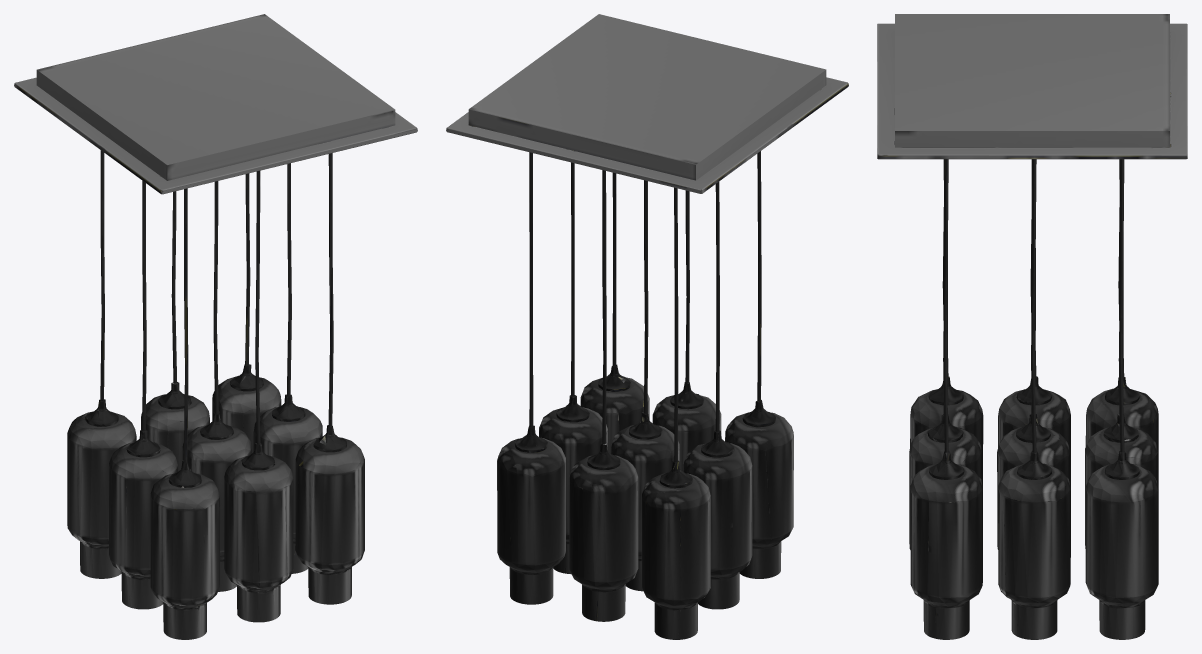
3 views of the same model, side by side, from view 1: azimuth 30°, elevation 25°; view 2: azimuth 150°, elevation 25°; view 3: azimuth 270°, elevation 25° (orthographic). The views are drawn at different scales.
Parts seen in each view (by area): view 1: Node; view 2: Node; view 3: Node.
Boxes of the visible parts, x1=… form: Node: x1=14, y1=14, x2=417, y2=639; Node: x1=446, y1=14, x2=848, y2=639; Node: x1=877, y1=14, x2=1187, y2=639.
Size of the model in its own units: 0.5878 by 1.08 by 0.5858.
1 material, 1 textured.
